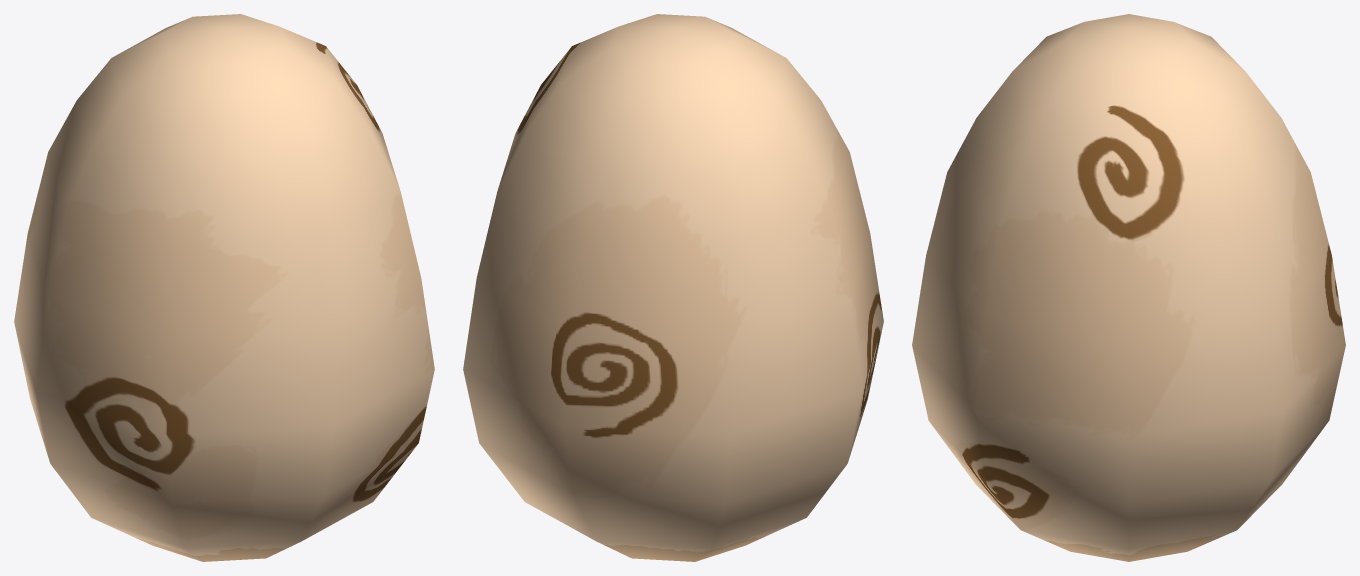
Rendered from Egg.FBX.
3 views of the same model, side by side, from view 1: azimuth 30°, elevation 25°; view 2: azimuth 150°, elevation 25°; view 3: azimuth 270°, elevation 25° (orthographic).
Visible parts, largest first — view 1: Capsule001; view 2: Capsule001; view 3: Capsule001.
Boxes of the visible parts, x1,y1,x2,y2 form: Capsule001: (14,14,434,561); Capsule001: (463,14,883,561); Capsule001: (912,14,1345,561).
Size of the model in its own units: 65.3 by 85.03 by 65.3.
